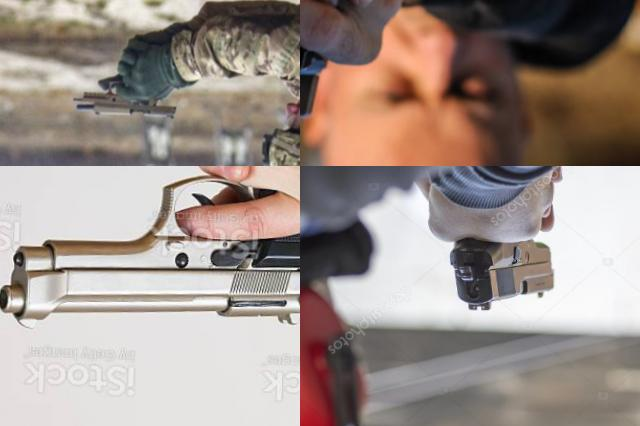handgun: (0, 166, 300, 341), (300, 0, 410, 156), (444, 214, 558, 316), (69, 62, 179, 121)
